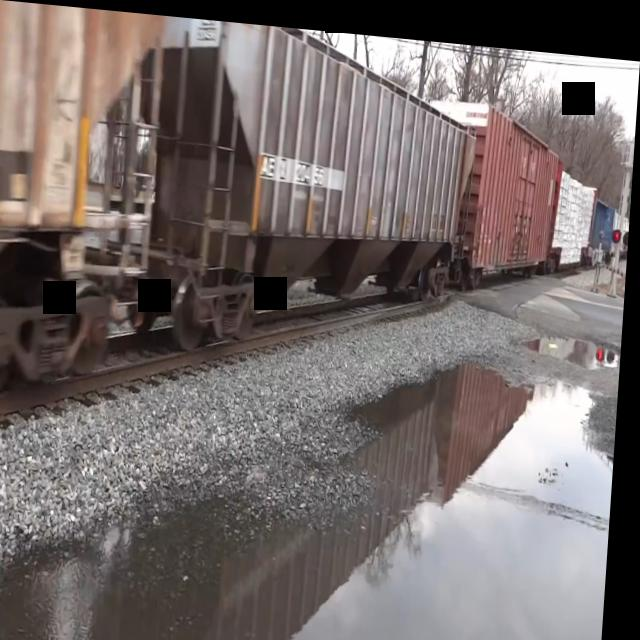boxcar: (464, 86, 571, 283), (555, 153, 603, 263)
hopper: (146, 12, 487, 366), (0, 0, 177, 421)
